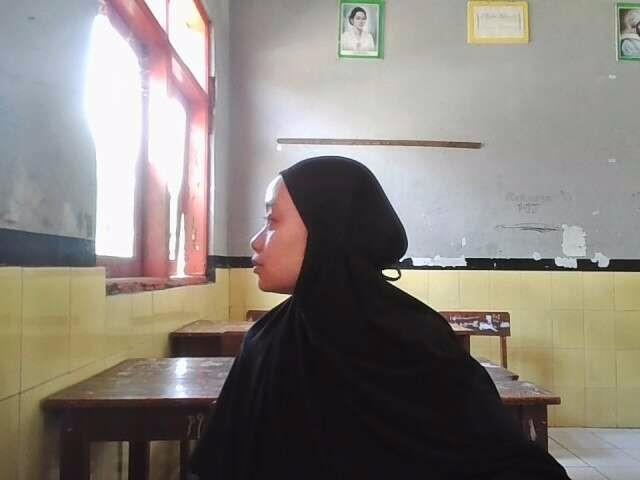cheating: (161, 140, 564, 480)
